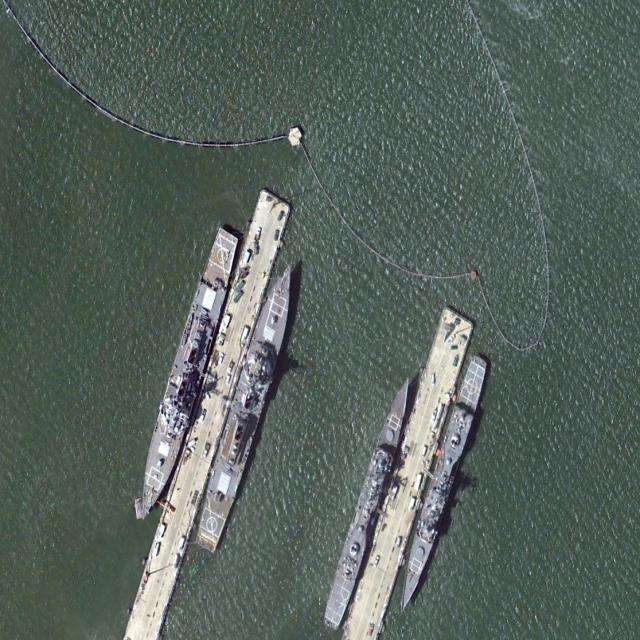Destroyer: (189, 254, 307, 558), (128, 222, 244, 529)
Frigate: (318, 368, 420, 634), (391, 354, 490, 621)
